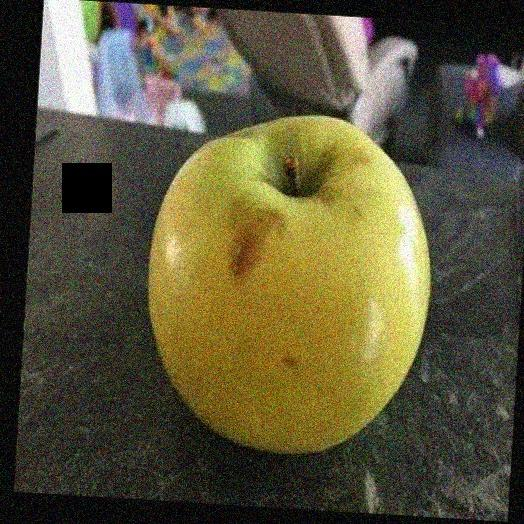green apple: (146, 110, 431, 455)
